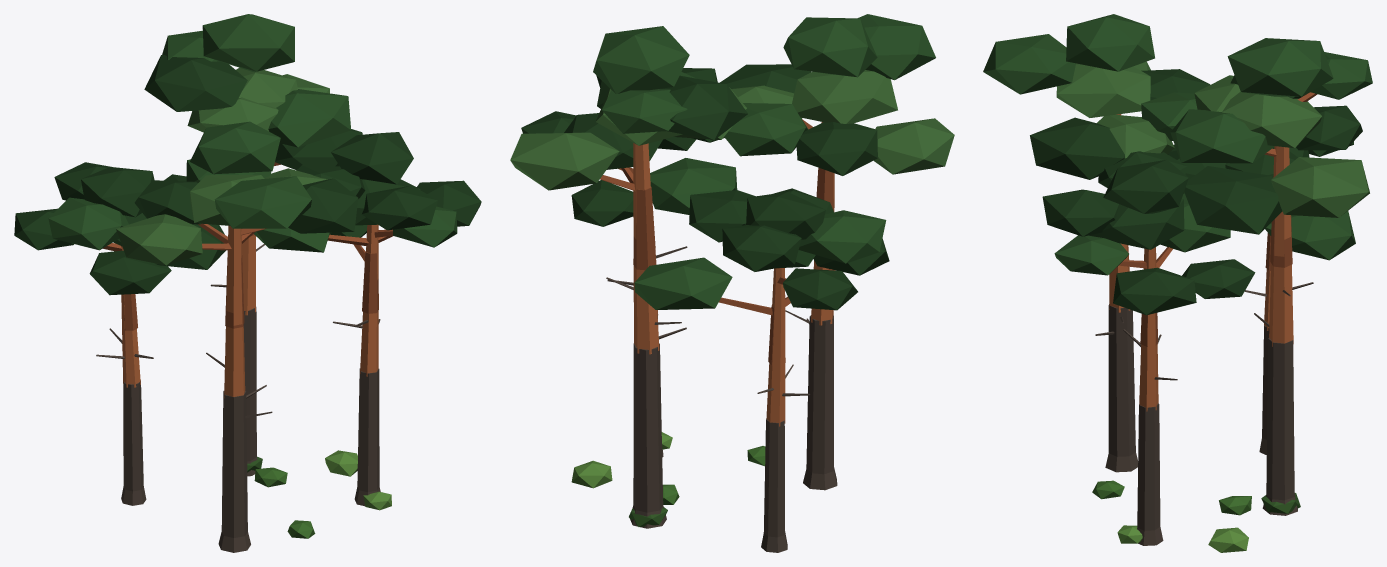
Rendered from forest_stand_a.glb.
3 renders of one model, left to right at view 1: azimuth 30°, elevation 25°; view 2: azimuth 150°, elevation 25°; view 3: azimuth 270°, elevation 25°, orthographic. The views are drawn at different scales.
Parts seen in each view (by area): view 1: forest_stand_a; view 2: forest_stand_a; view 3: forest_stand_a.
Part boxes in pixels (bbox=[...]): forest_stand_a: bbox=[14, 14, 481, 552]; forest_stand_a: bbox=[510, 14, 954, 552]; forest_stand_a: bbox=[983, 14, 1372, 552].
Bounding box in the file's own units: 10.33 × 11.77 × 8.82.
